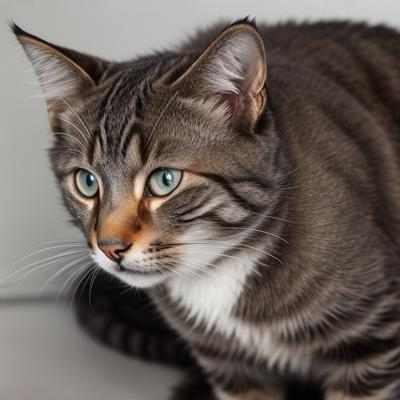cat: (4, 16, 400, 400)
